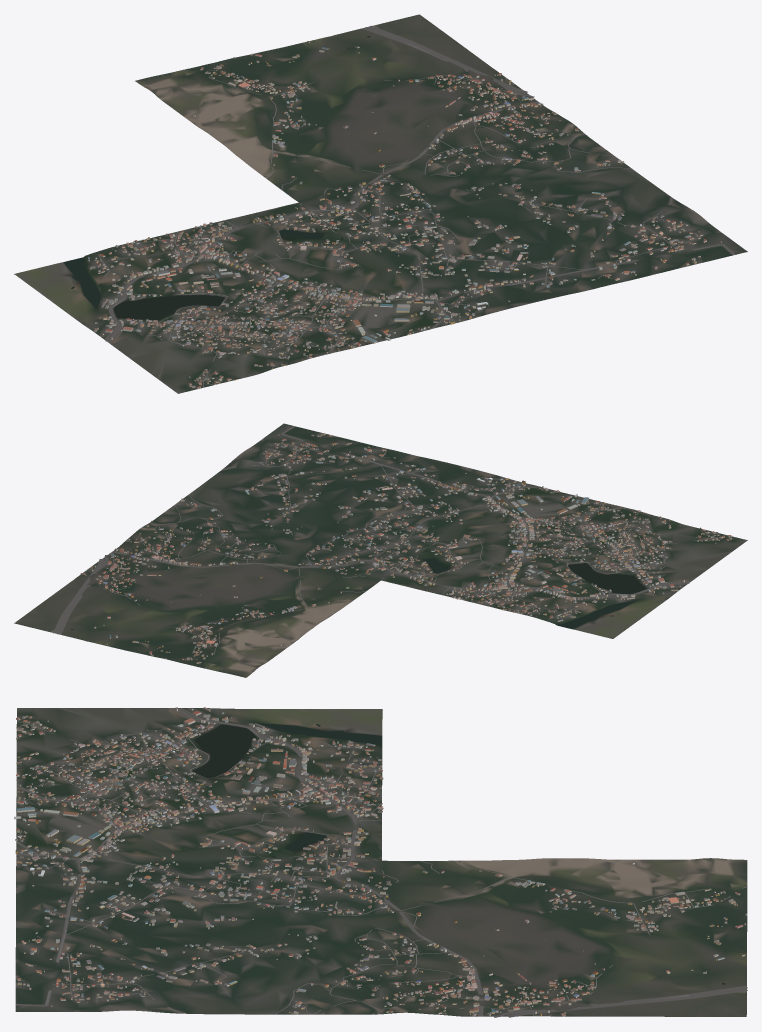
3 views of the same model, one above another, from view 1: azimuth 30°, elevation 25°; view 2: azimuth 150°, elevation 25°; view 3: azimuth 270°, elevation 25° (orthographic). The views are drawn at different scales.
Parts seen in each view (by area): view 1: ground, buildings, roads, water; view 2: ground, buildings, roads, water; view 3: ground, buildings, roads, water.
Boxes of the visible parts, x1,y1,x2,y2 form: ground: [14, 14, 747, 393]; buildings: [88, 41, 721, 388]; roads: [92, 26, 735, 387]; water: [64, 36, 370, 320]; ground: [14, 423, 747, 677]; buildings: [80, 433, 731, 663]; roads: [53, 426, 726, 668]; water: [71, 551, 646, 630]; ground: [15, 708, 747, 1016]; buildings: [14, 707, 747, 1016]; roads: [15, 707, 747, 1017]; water: [192, 723, 725, 984].
Bounding box in the file's own units: 2815 × 35.57 × 2814.
